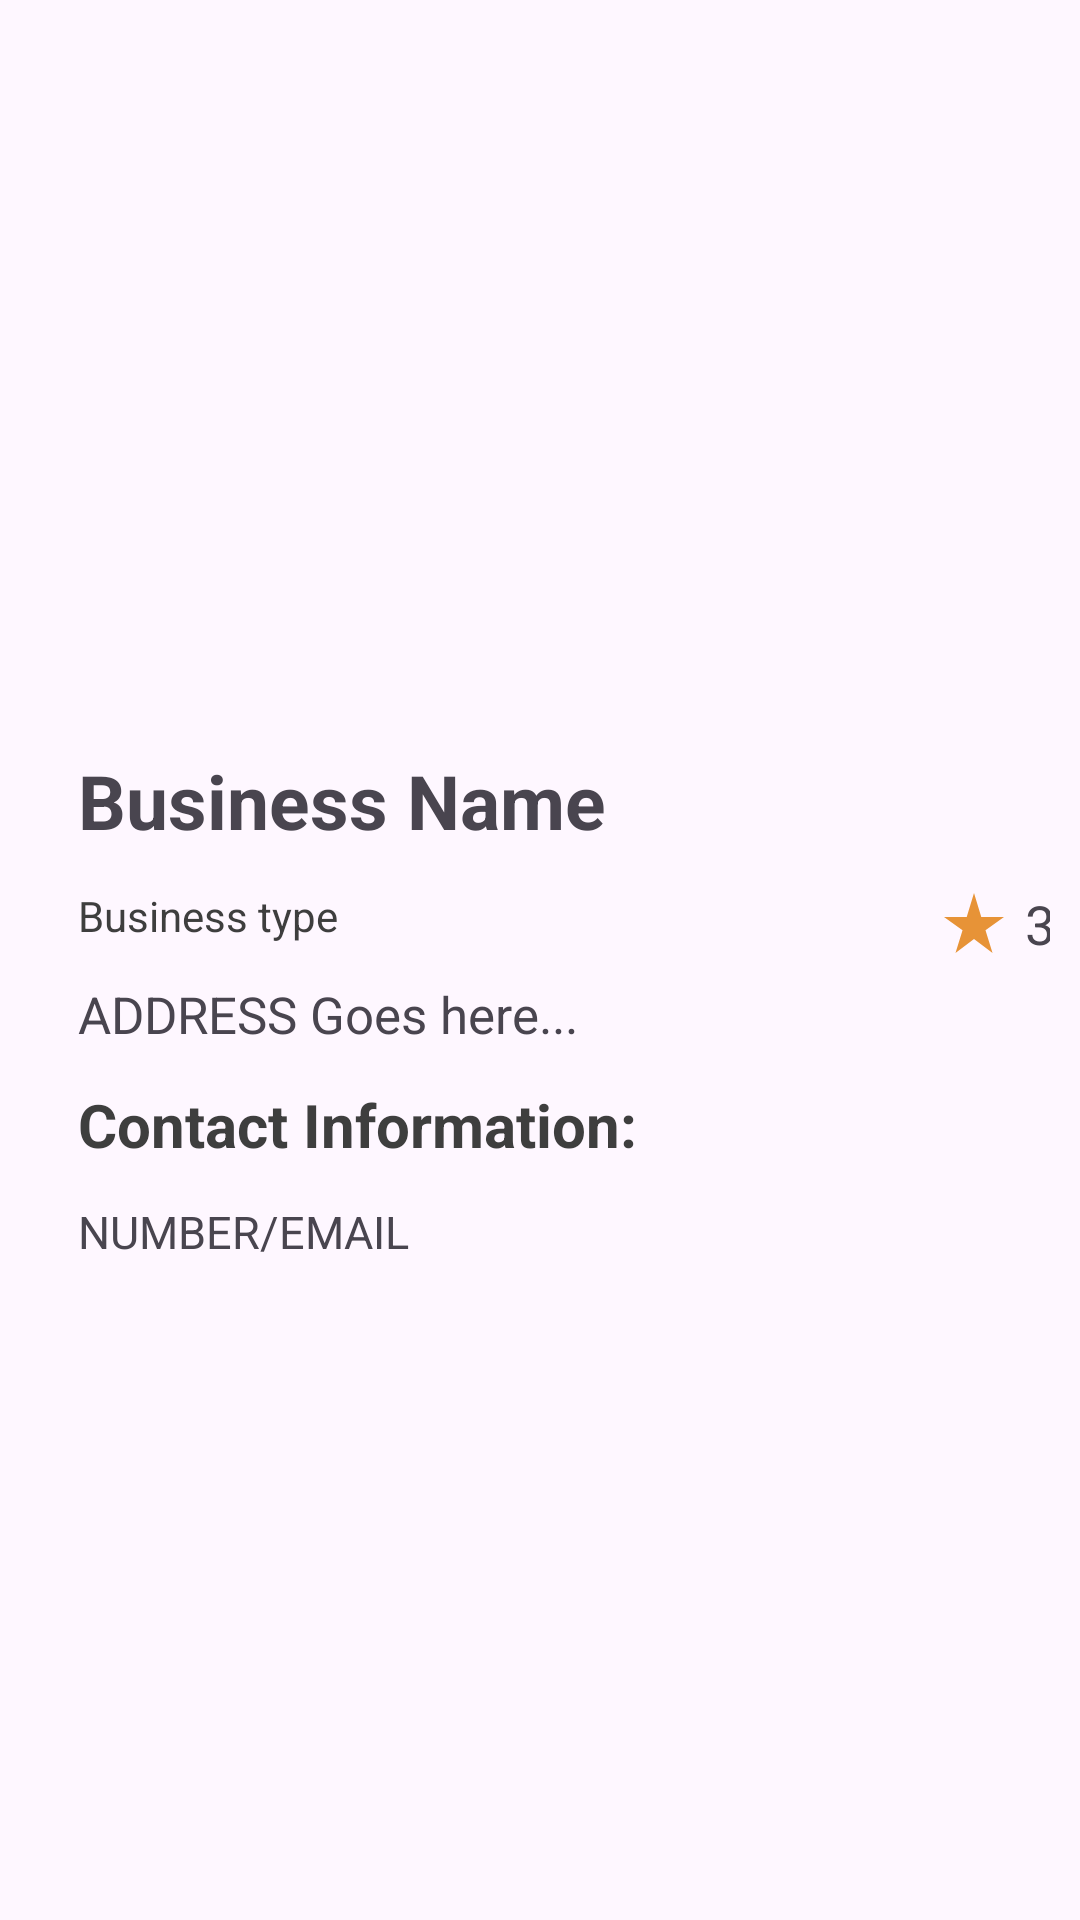

Named icons in this screenshot (1080×1920) and their bounding boxes, BBox(x1, y1, x2, y2):
ratings: BBox(944, 893, 1004, 953)
